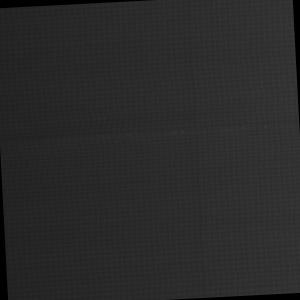Wrinkle: (170, 1, 233, 299), (1, 100, 300, 154)
